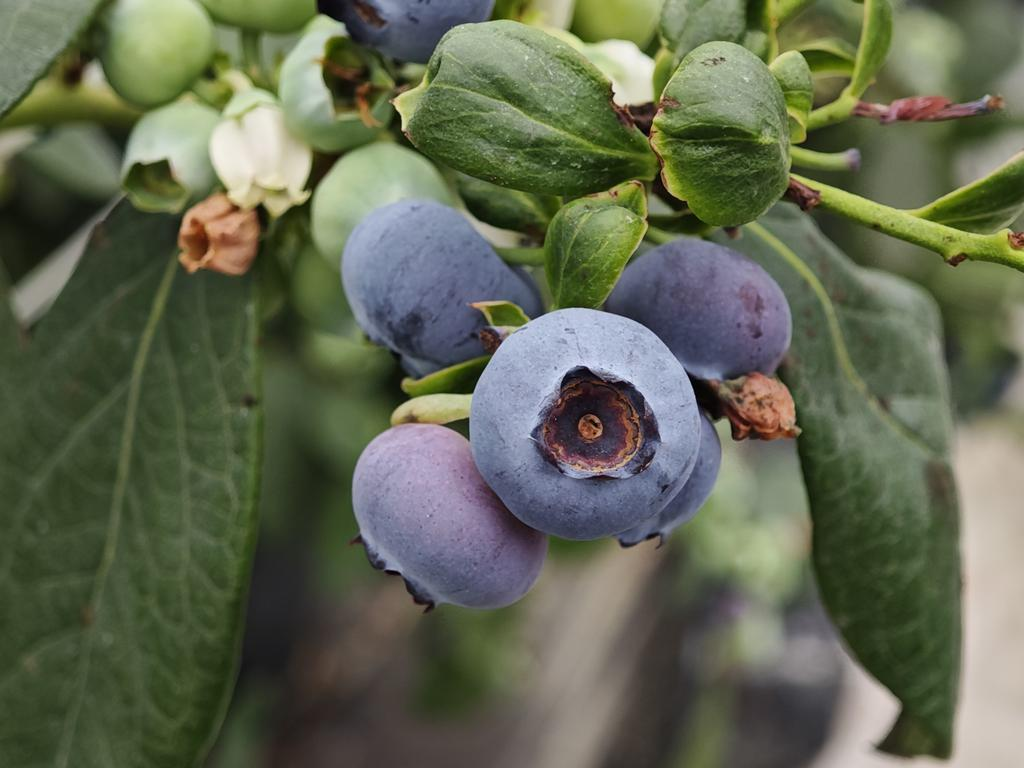RipeBlueBerry: (478, 304, 698, 546), (350, 428, 543, 622), (347, 202, 522, 367), (622, 234, 798, 382)
